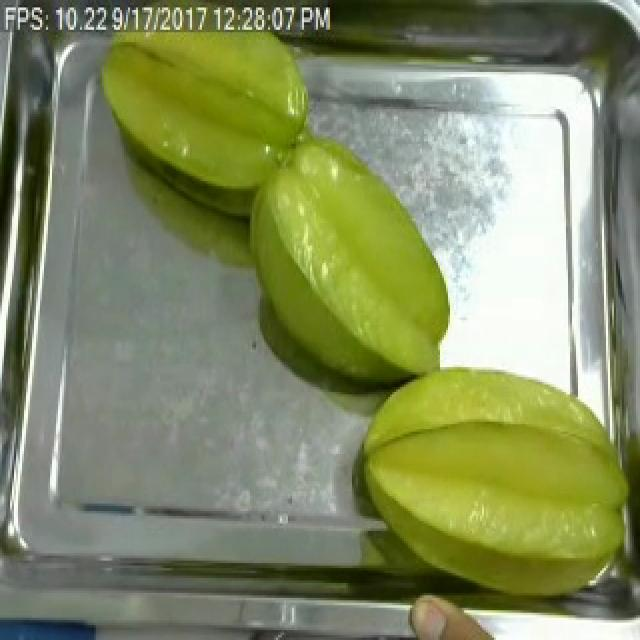fruit: (344, 362, 640, 613), (240, 136, 460, 394), (84, 27, 320, 201), (400, 590, 520, 640)
